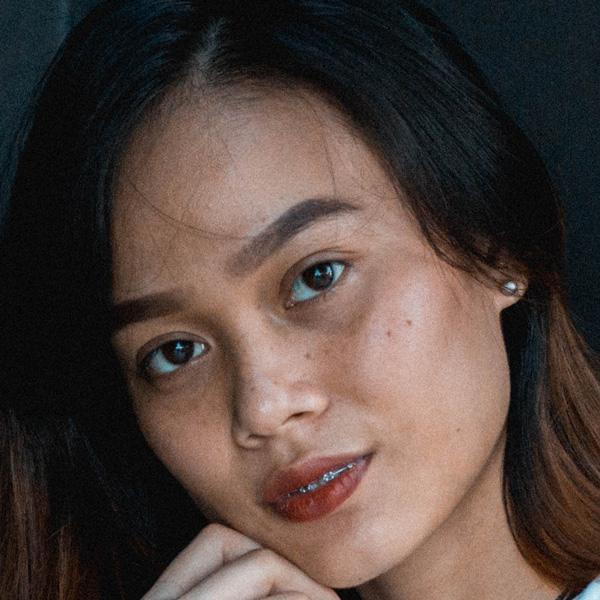Eyes: (276, 237, 364, 318), (126, 320, 223, 391)
